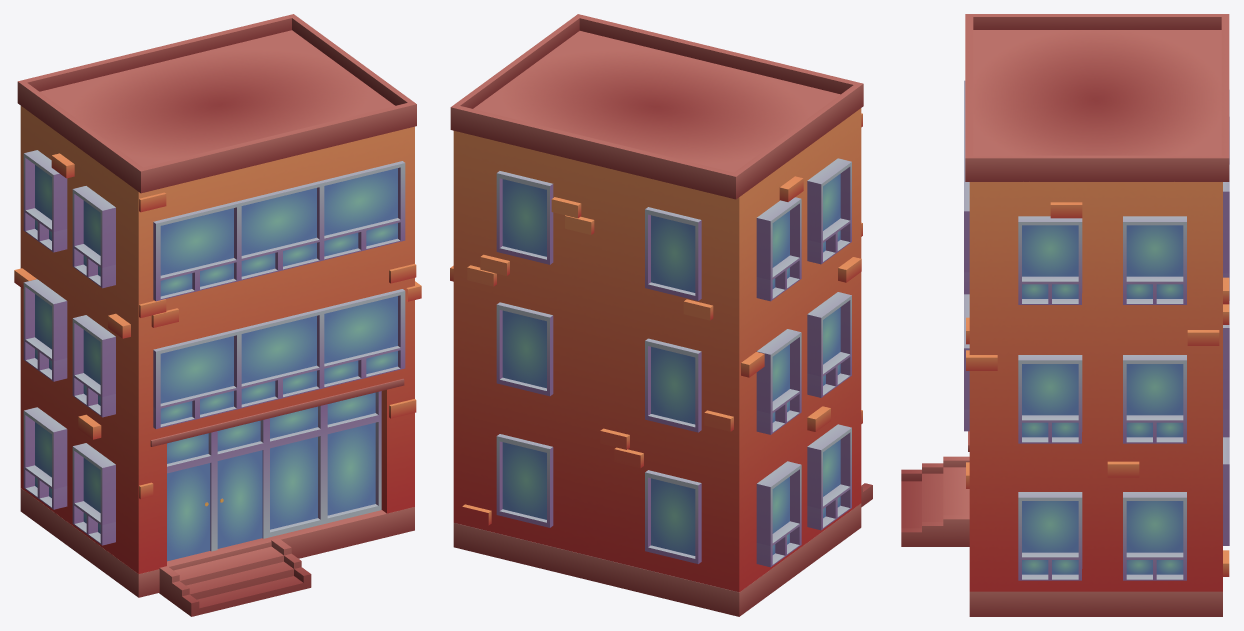
Rendered from SM_3F_L_Half_04.fbx.
The picture shows the model from 3 angles, left to right: view 1: azimuth 30°, elevation 25°; view 2: azimuth 150°, elevation 25°; view 3: azimuth 270°, elevation 25°; orthographic projection. The views are drawn at different scales.
Visible parts, largest first — view 1: SM_3F_L_Half_04; view 2: SM_3F_L_Half_04; view 3: SM_3F_L_Half_04.
Boxes of the visible parts, bbox=[...] form: SM_3F_L_Half_04: bbox=[14, 14, 421, 616]; SM_3F_L_Half_04: bbox=[450, 14, 872, 616]; SM_3F_L_Half_04: bbox=[901, 14, 1229, 616].
Size of the model in its own units: 7.92 by 6.99 by 10.8.
